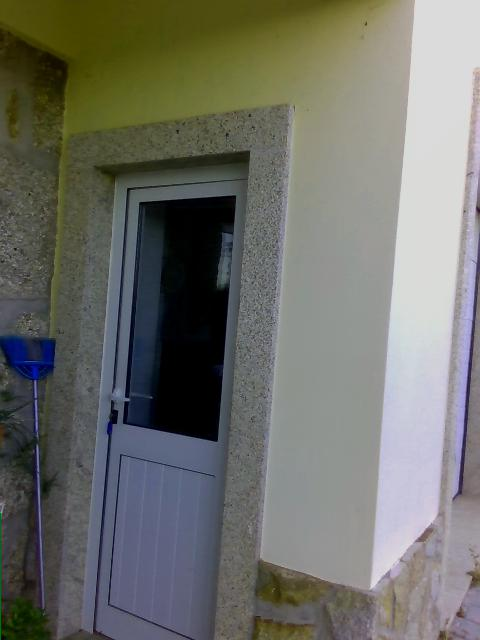closed_door: (78, 158, 248, 639)
